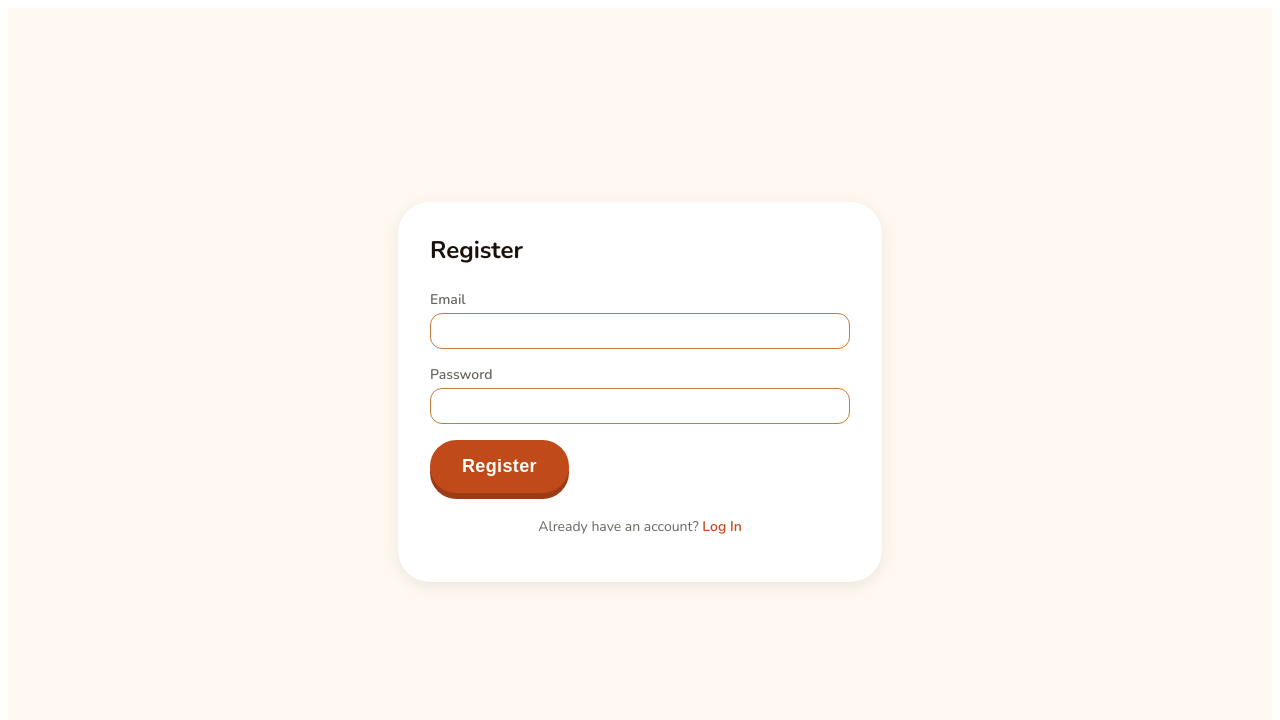
Test: RegisterPage › disables submit button while register is in progress
The width and height of the screenshot is (1280, 720).
Type "a@b.com" into the field labelled "Email" at {"x": 640, "y": 331}, box [430, 313, 850, 349]
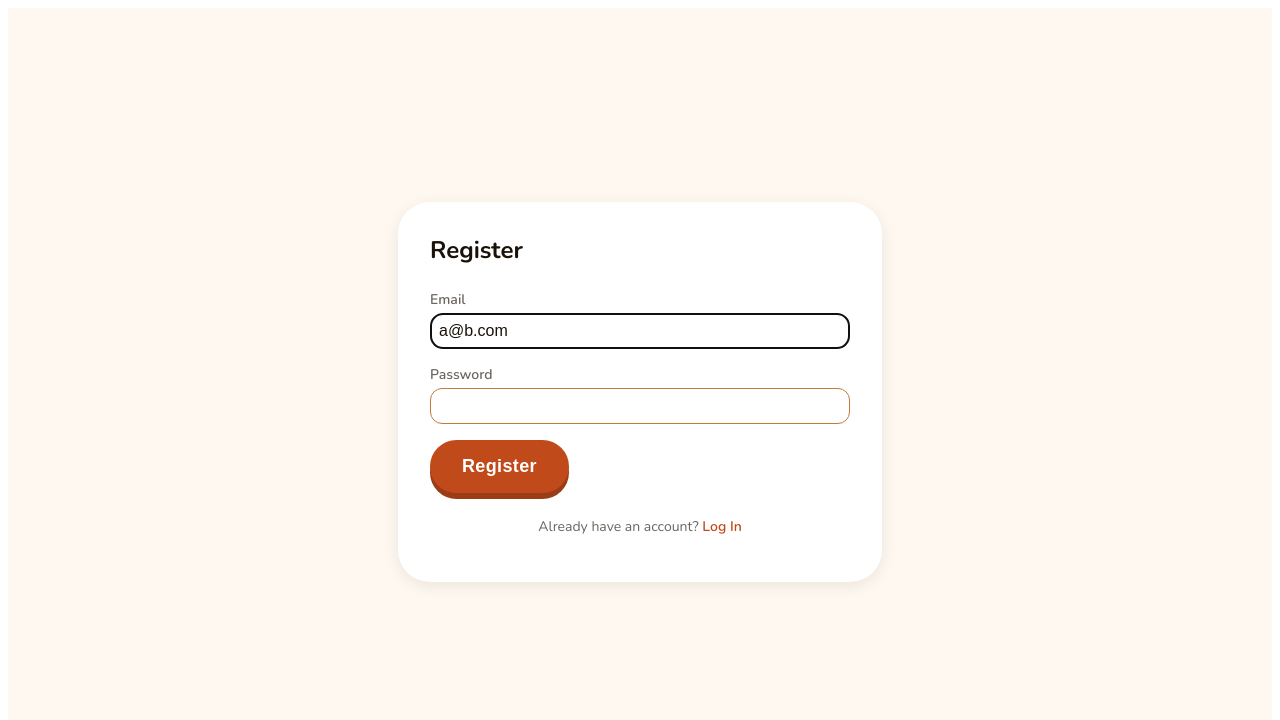
Type "pass" into the password field labelled "Password" at {"x": 640, "y": 406}, box [430, 388, 850, 424]
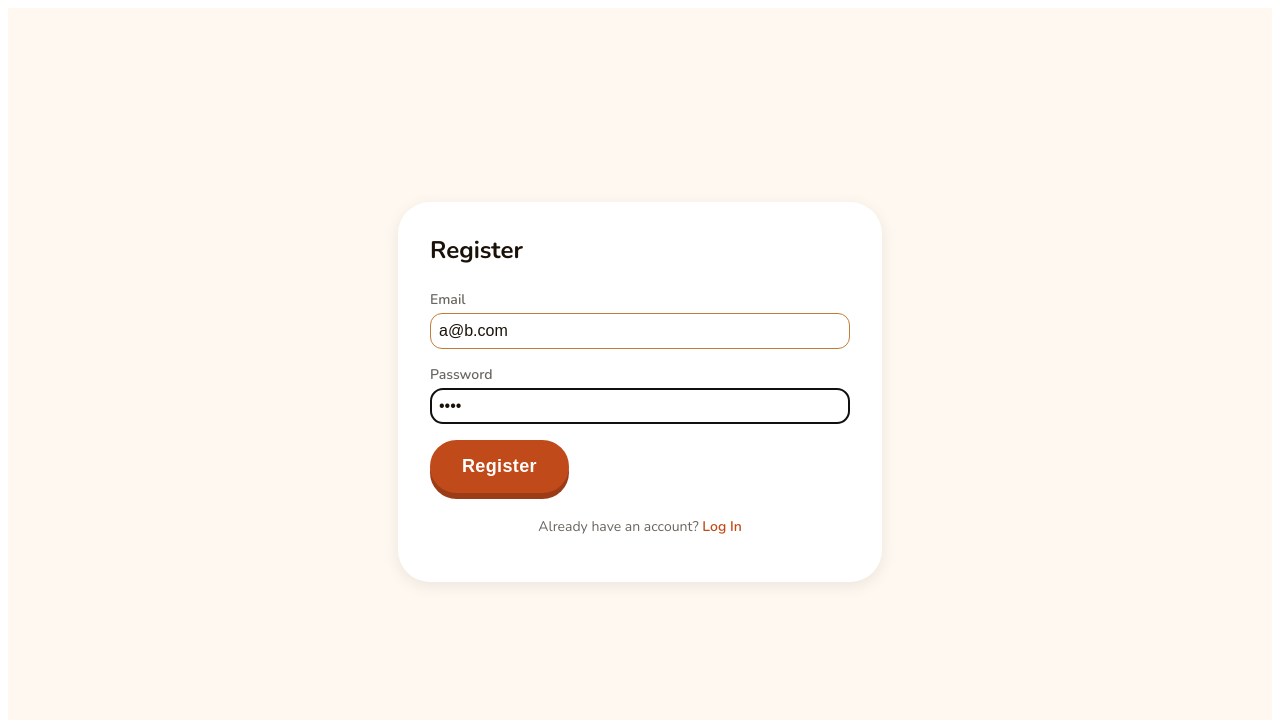
Click the button "Register" at {"x": 499, "y": 466}, box [430, 440, 569, 493]
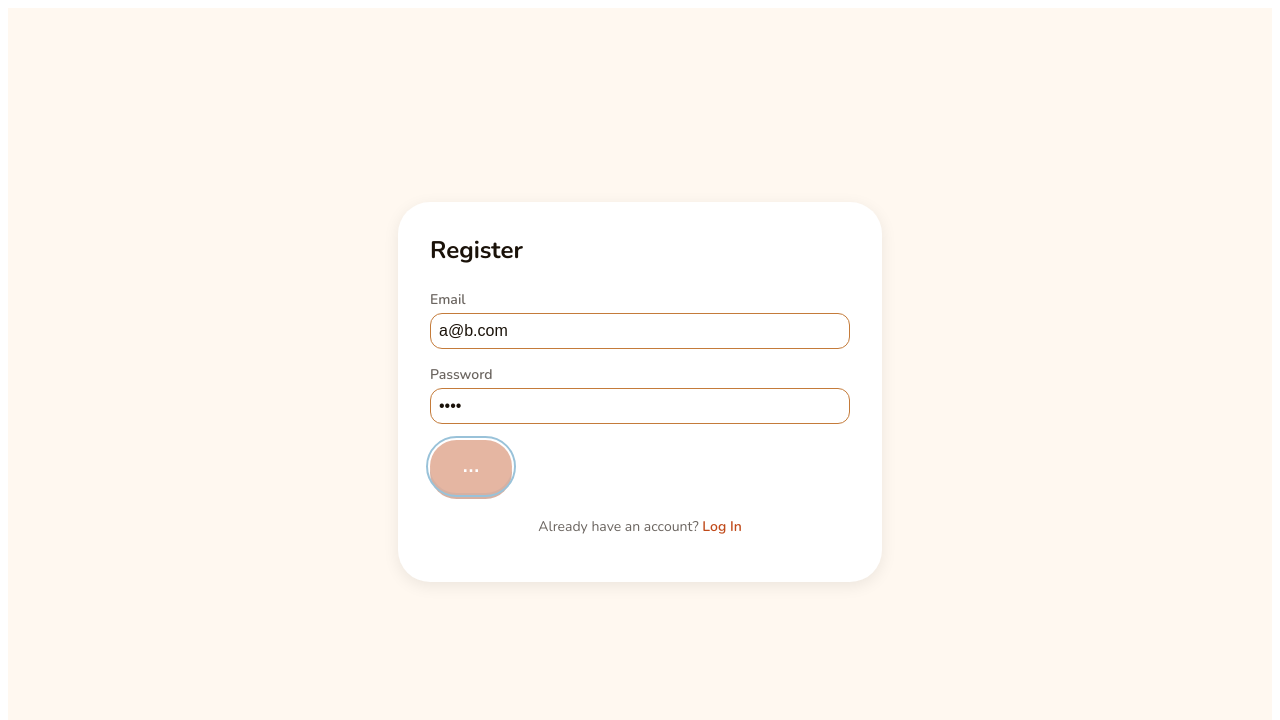
Now the button "…" is disabled, box [430, 440, 512, 493]
